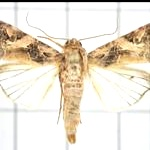Spodoptera litura: (0, 11, 149, 144)
